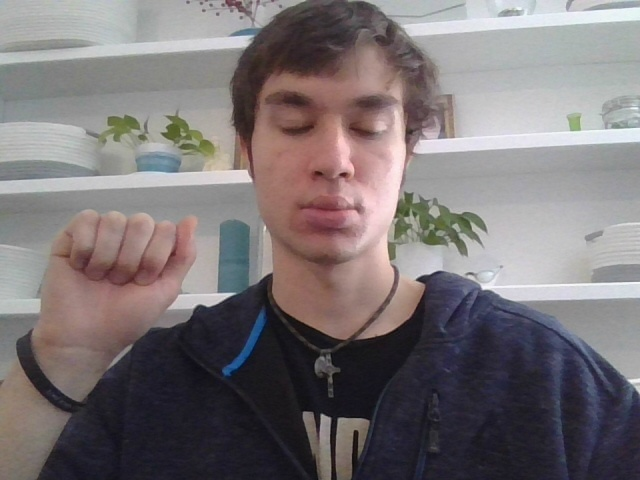a: (43, 203, 207, 374)
